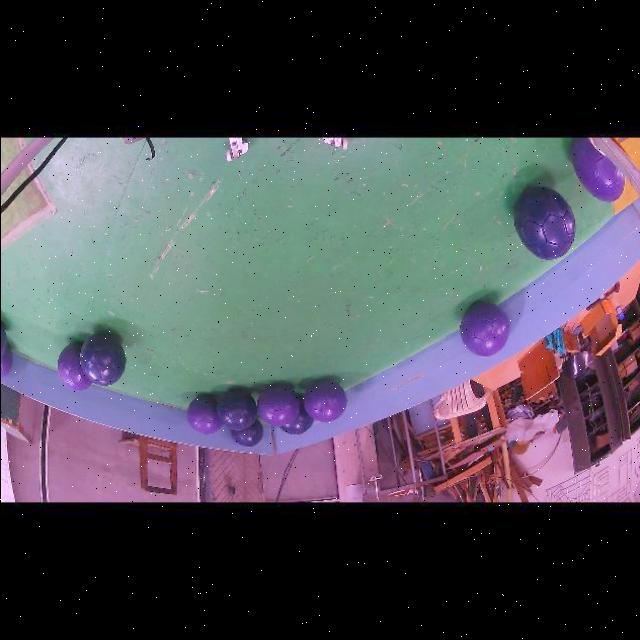B: (513, 186, 574, 258), (78, 330, 125, 385), (216, 389, 256, 429), (279, 395, 313, 434), (230, 419, 263, 446)
P: (570, 137, 624, 201), (459, 301, 508, 356), (303, 379, 346, 422), (256, 384, 299, 425), (56, 342, 91, 390), (187, 395, 222, 433)
